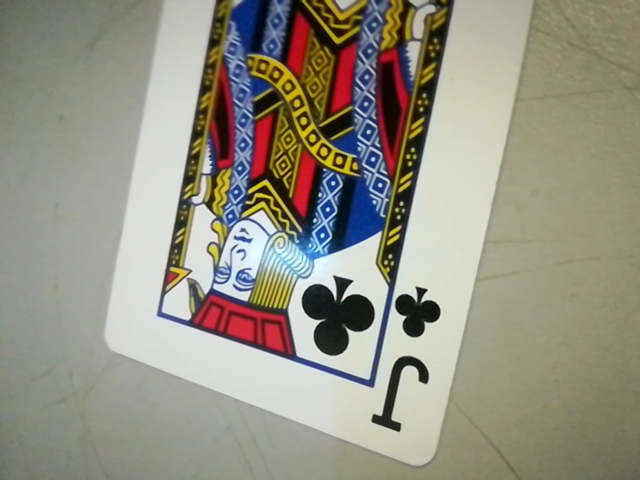mh j: (376, 280, 450, 435)
